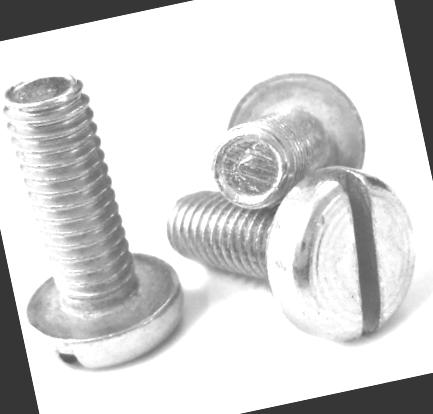slotted: (250, 151, 433, 360)
